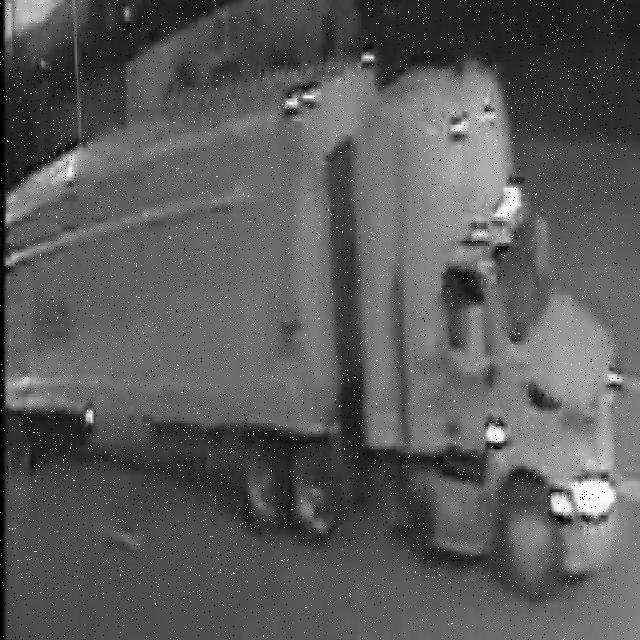Tractor Trailer: (6, 64, 619, 599)
